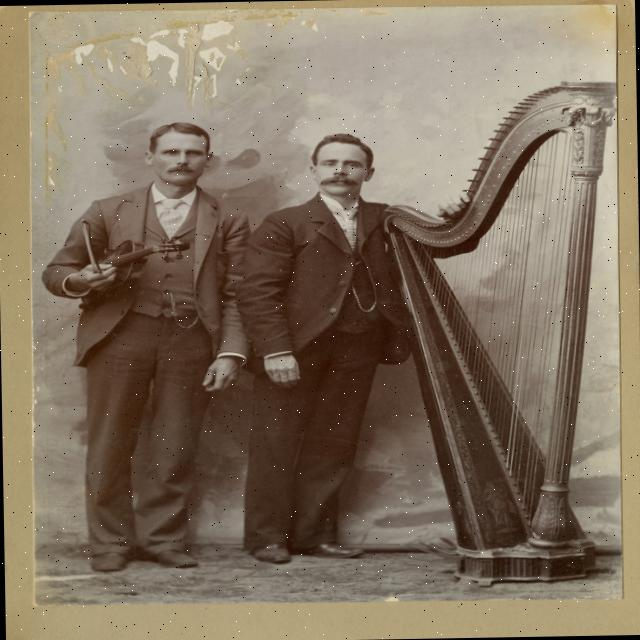harp: (382, 68, 623, 598)
violin: (68, 231, 198, 308)
